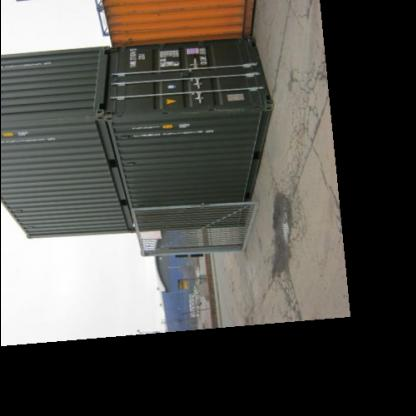Damage: (170, 99, 262, 119), (114, 13, 134, 43)
